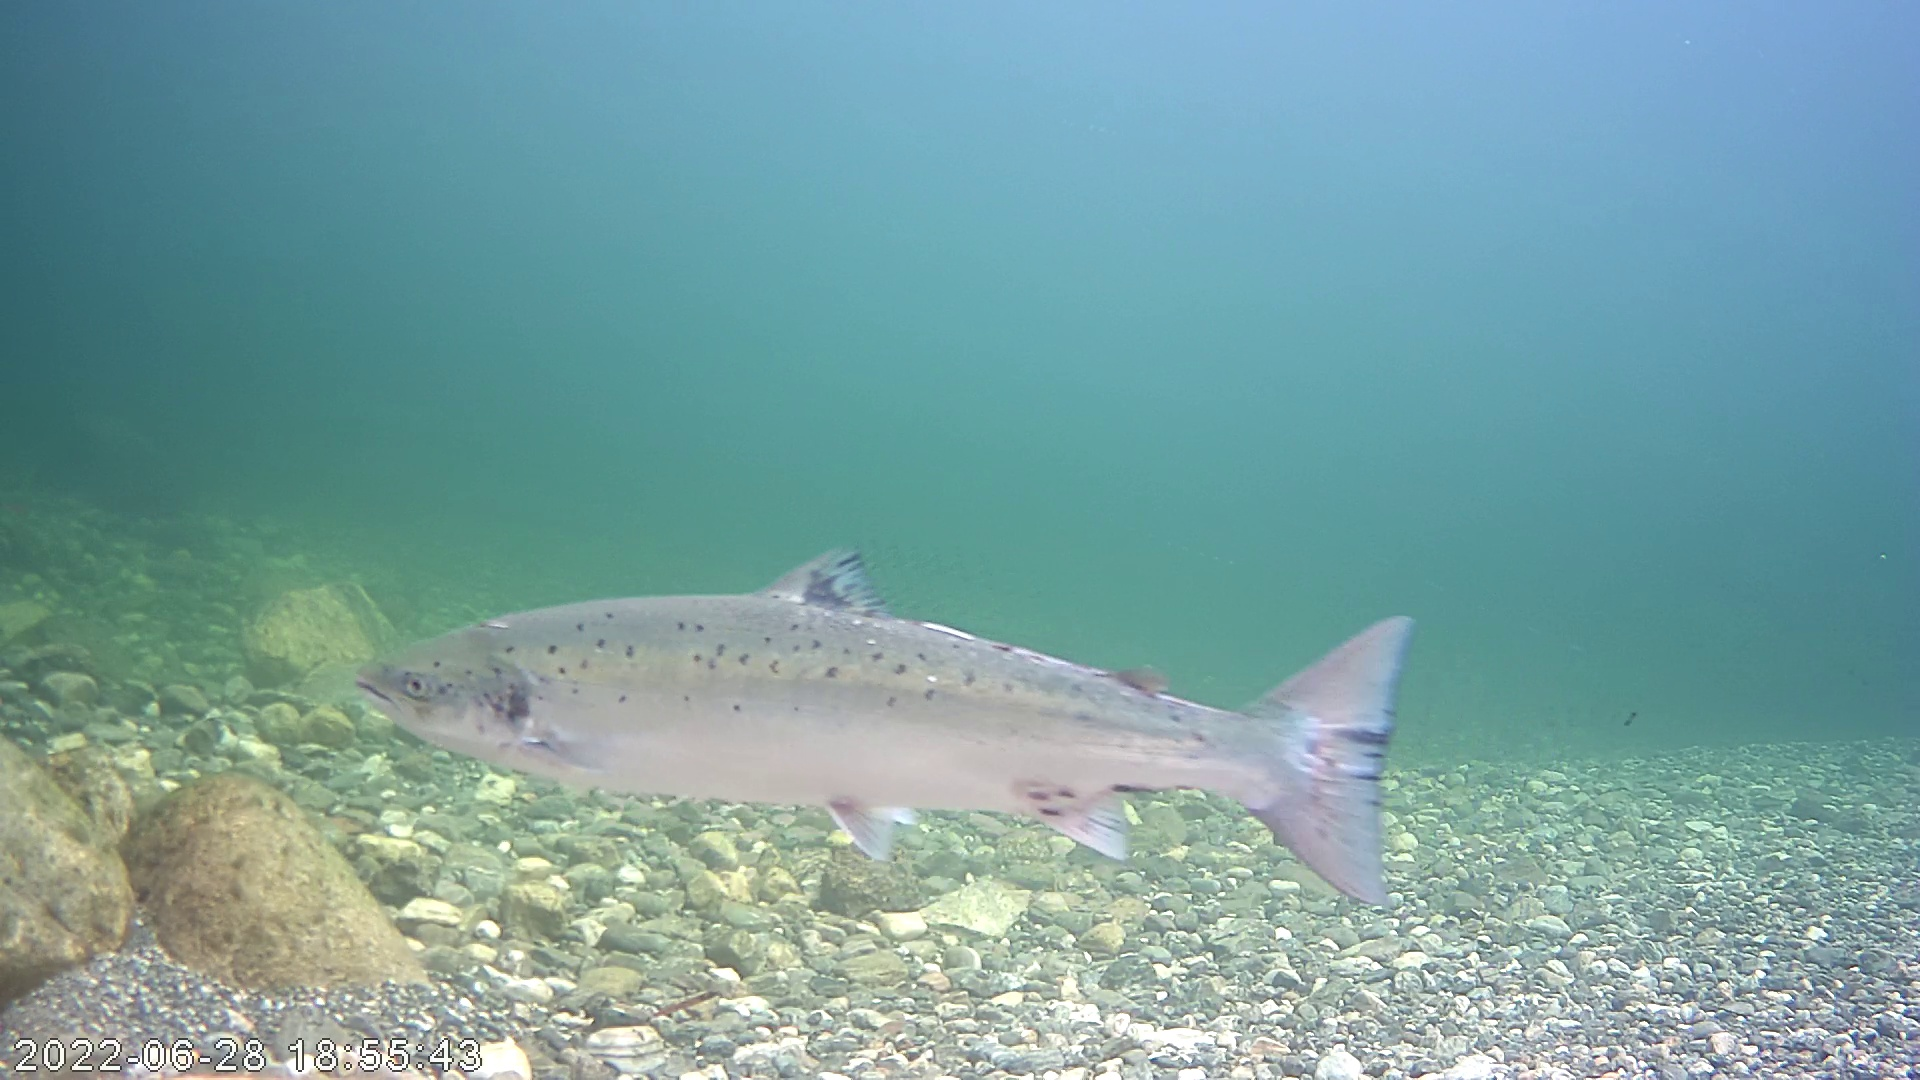salmon: (328, 491, 1437, 906)
